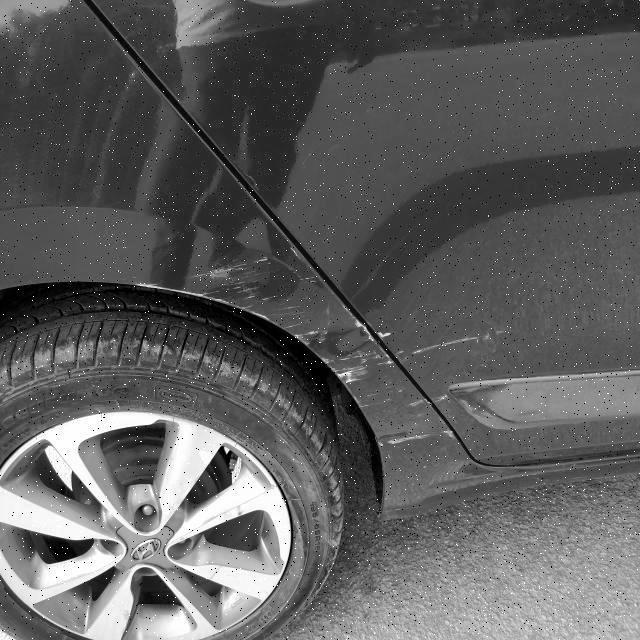quaterpanel-dent: (1, 148, 396, 609)
